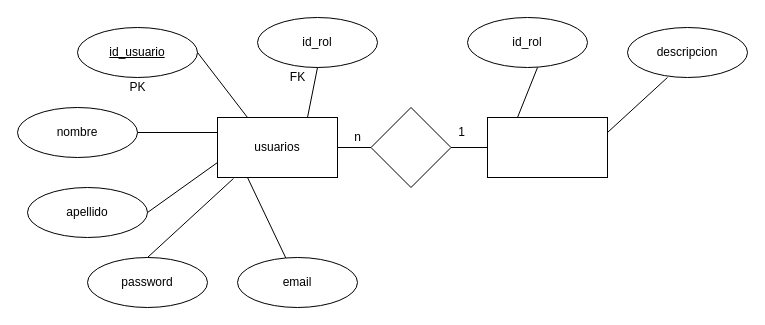
This 765x325 diagram has some shape labels left out. The centre of each missing label's shape, as x and y in pixels:
pertence: point 410,147
roles: point 547,147
